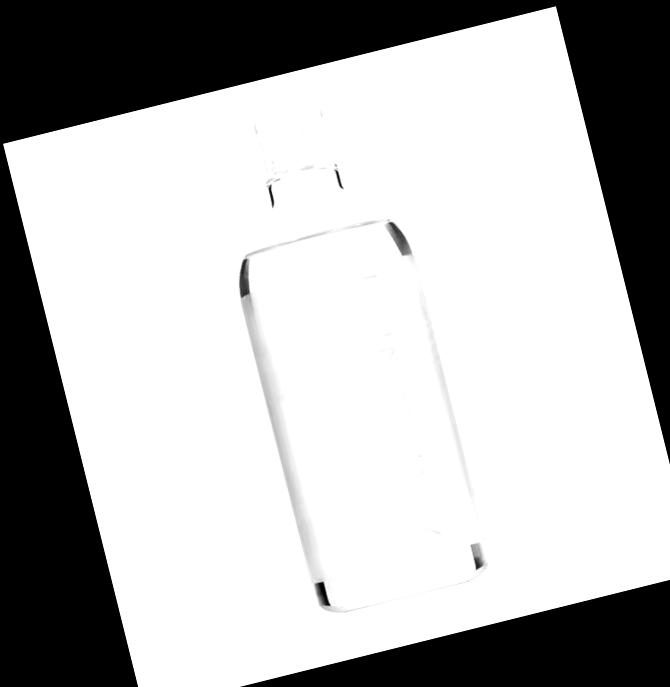cosmetic: (200, 85, 495, 615)
